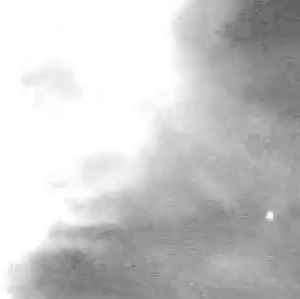Target: (265, 210, 272, 219)
